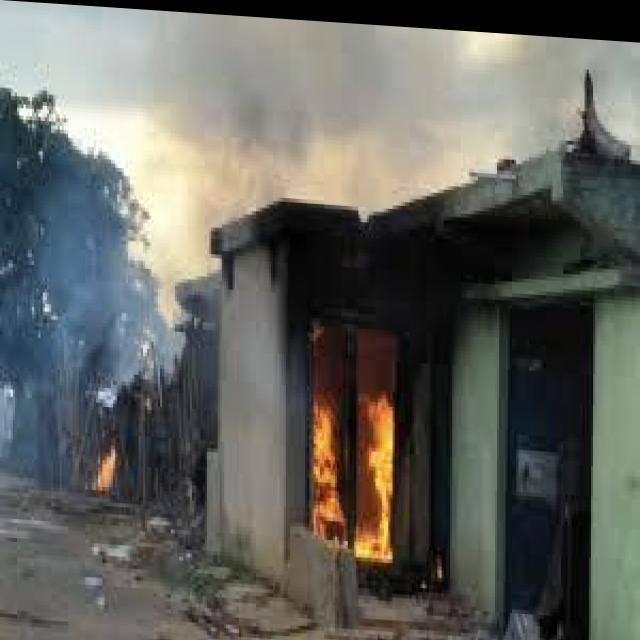fire: (290, 331, 414, 563), (76, 438, 122, 490)
